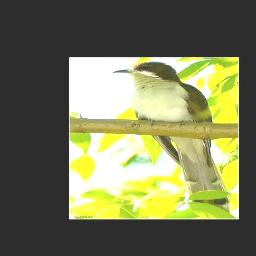Cuckoo: (112, 61, 232, 216)
